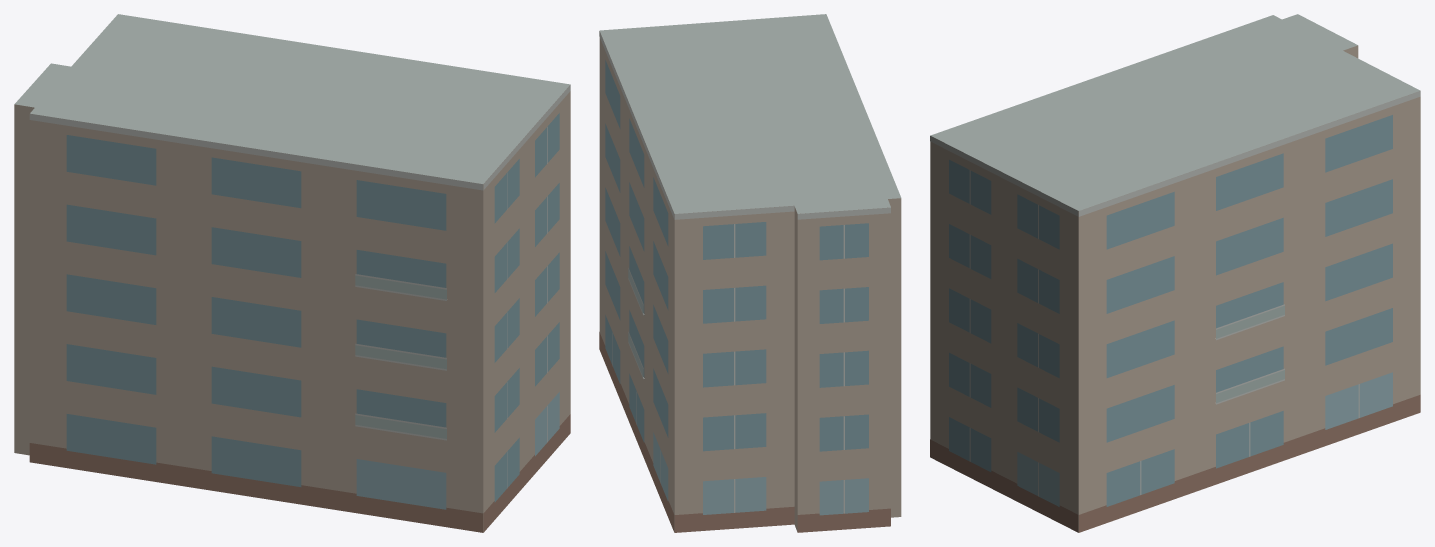
Rendered from survey-upis-32832940.glb.
The picture shows the model from 3 angles, left to right: view 1: azimuth 30°, elevation 25°; view 2: azimuth 150°, elevation 25°; view 3: azimuth 270°, elevation 25°; orthographic projection. The views are drawn at different scales.
Visible parts, largest first — view 1: survey-upis-32832940.tmp; view 2: survey-upis-32832940.tmp; view 3: survey-upis-32832940.tmp.
Part boxes in pixels (box(x1,y1,x2,y2)): survey-upis-32832940.tmp: box(14, 14, 570, 532); survey-upis-32832940.tmp: box(599, 14, 901, 532); survey-upis-32832940.tmp: box(930, 14, 1420, 532).
Size of the model in its own units: 17.67 by 13.45 by 18.59.
